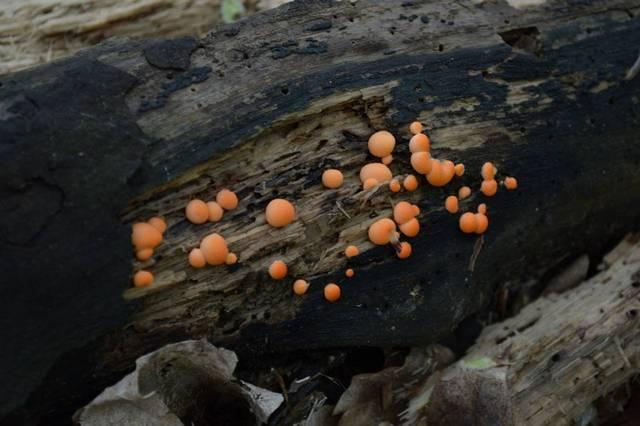poisonous_mushroom: (122, 113, 518, 349), (264, 197, 295, 228), (199, 232, 228, 265), (366, 129, 396, 157), (320, 167, 344, 189), (267, 259, 288, 280), (322, 282, 341, 302)
